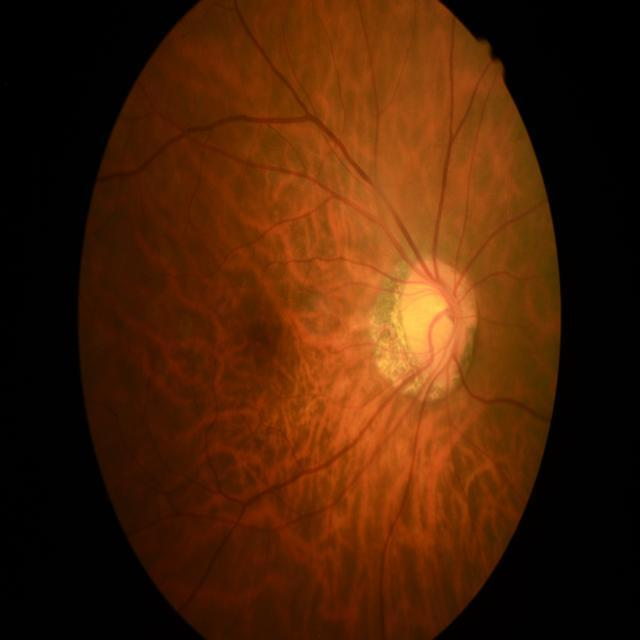cup: (406, 284, 454, 362)
disk: (400, 257, 478, 378)
